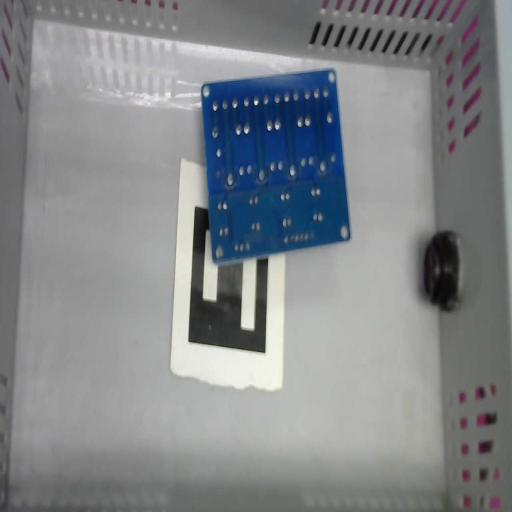relay_module: (200, 68, 352, 263)
